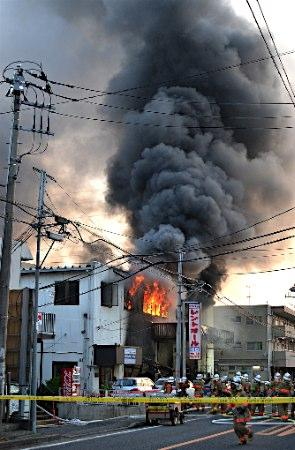fire: (126, 269, 180, 320)
